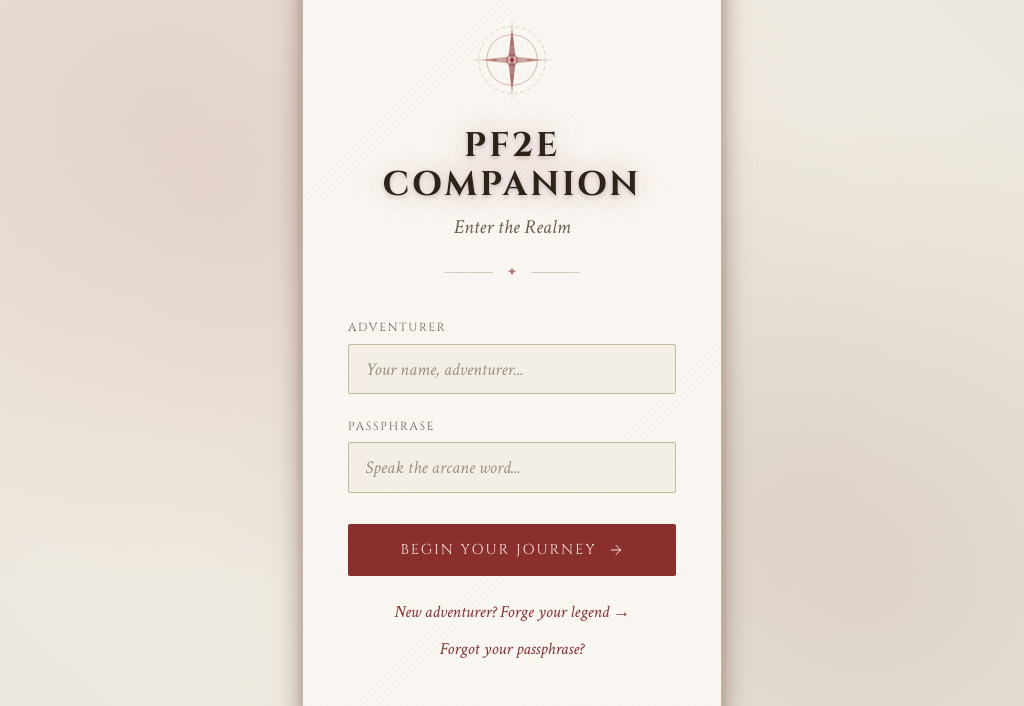
Login › should show register mode when toggle button is clicked
Step 1. Click the button "New adventurer? Forge your legend →" → (512, 612), box x1=394 y1=601 x2=630 y2=623
(page scrolled)
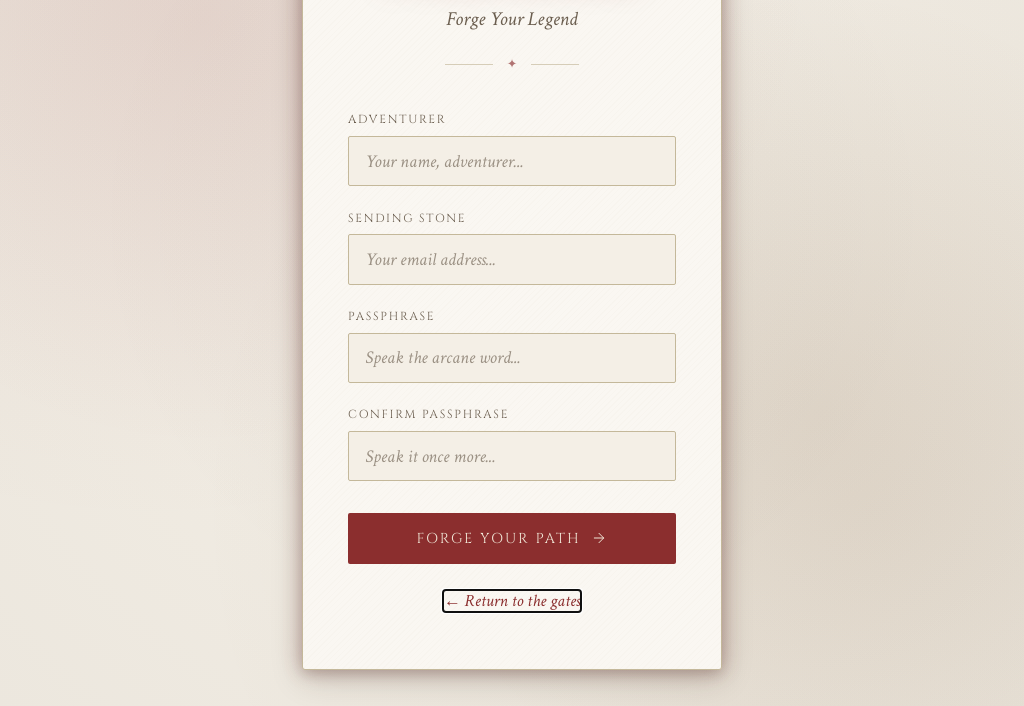
Now the field labelled "Sending Stone" is shown, box x1=348 y1=234 x2=676 y2=284
Now the password field labelled "Confirm Passphrase" is shown, box x1=348 y1=431 x2=676 y2=481
Now the button "Forge Your Path" is shown, box x1=348 y1=513 x2=676 y2=564
